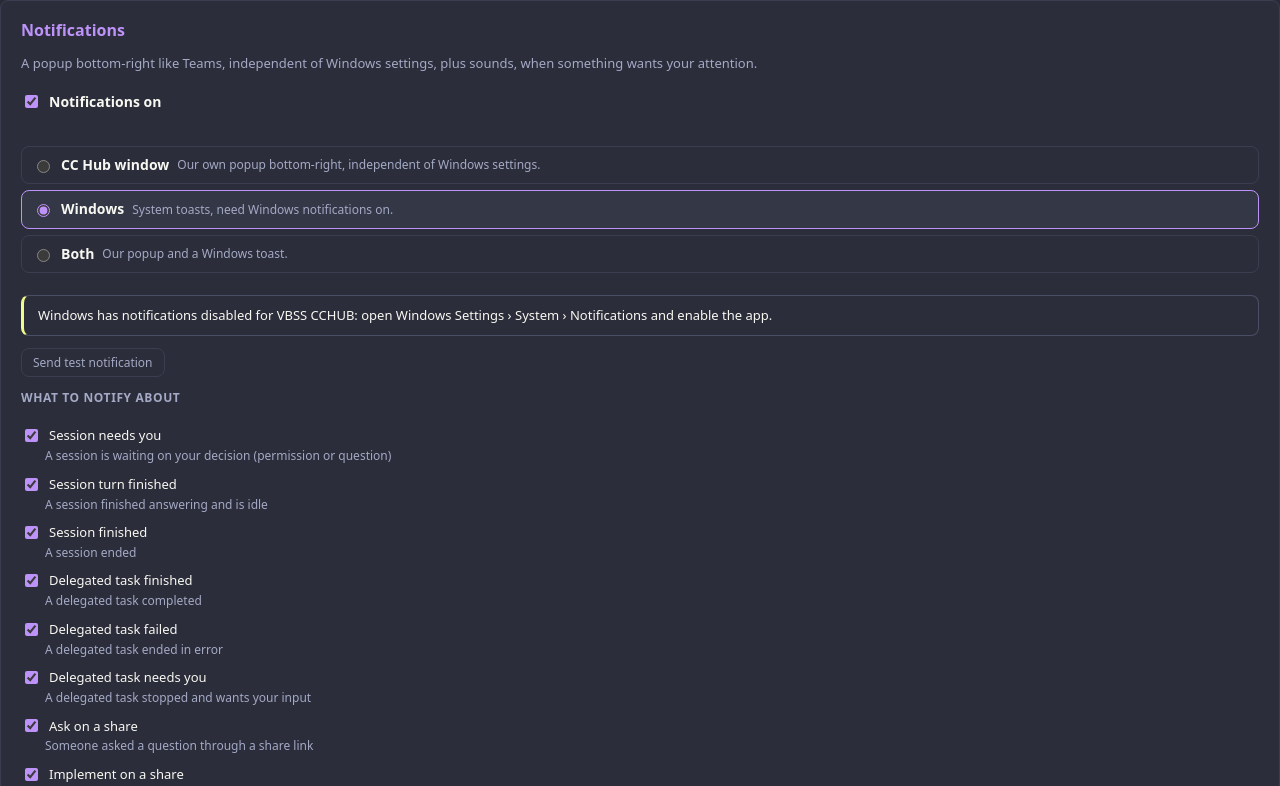
a failing status refresh after the test keeps the previous status
The image size is (1280, 786).
Expected: the text "Windows has notifications disabled for VBSS CCHUB" is shown, [38,306,772,324]
Click the button "Send test notification" at [93, 362], box [21,348,164,377]
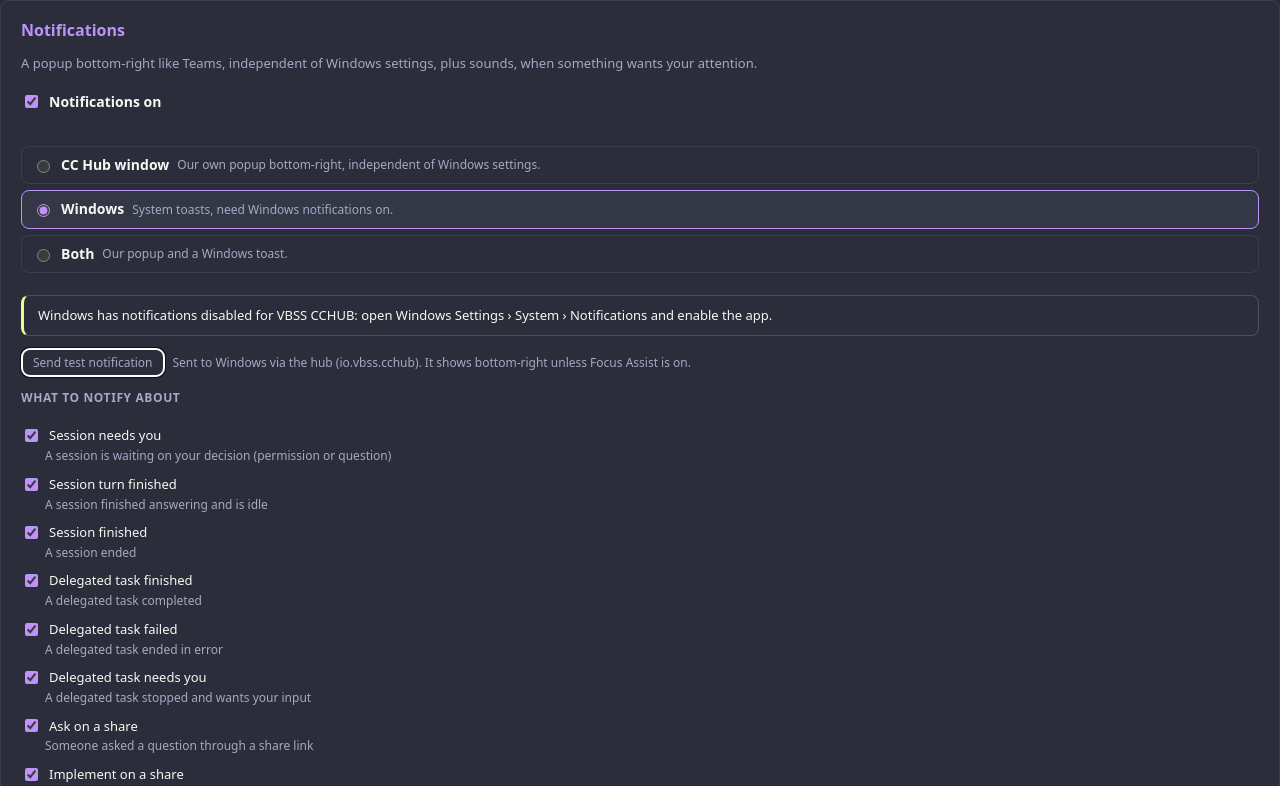
Expected: the text "Windows has notifications disabled for VBSS CCHUB" is shown, [38,306,772,324]
Expected: the text "Sent to Windows via the hub (io.vbss.cchub)" is shown, [172,354,691,370]
